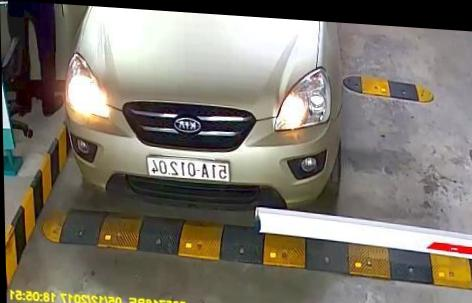License_Plate: (146, 153, 234, 185)
